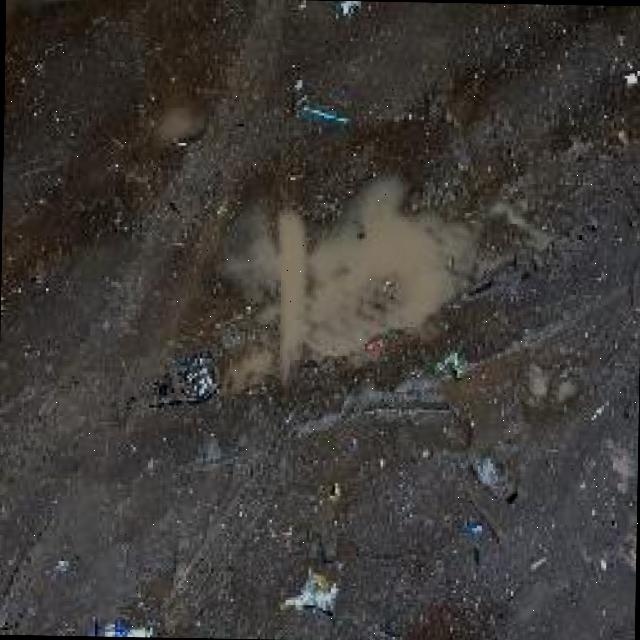waterlogging: (210, 182, 480, 386)
